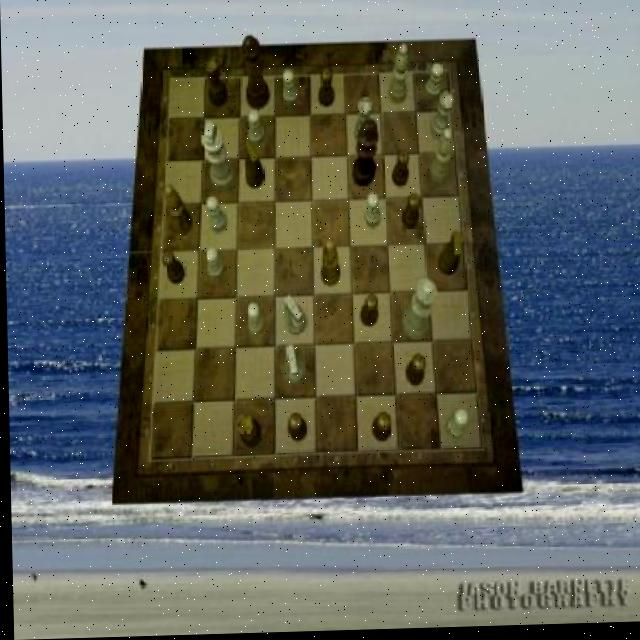bishop: (164, 185, 192, 236), (320, 242, 341, 288)
black-bishop: (351, 122, 379, 190)
black-king: (436, 233, 461, 279), (244, 143, 264, 191)
black-knight: (161, 251, 185, 286), (391, 152, 409, 188), (317, 71, 334, 109), (405, 357, 425, 389), (401, 197, 419, 232), (359, 296, 377, 330), (371, 414, 389, 444), (286, 416, 305, 444)
black-pawn: (241, 37, 270, 112)
black-queen: (206, 58, 227, 107), (235, 414, 259, 449)
black-rook: (428, 131, 452, 186), (387, 48, 409, 108)
white-bishop: (201, 122, 236, 194)
white-king: (281, 347, 305, 388), (282, 298, 305, 338)
white-knight: (207, 197, 227, 235), (444, 411, 468, 442), (204, 249, 225, 283), (248, 111, 266, 149), (425, 65, 443, 103), (281, 72, 298, 110), (246, 305, 264, 339), (364, 196, 381, 232)
white-pawn: (401, 281, 438, 343)
white-queen: (429, 96, 453, 144), (353, 101, 371, 149)
